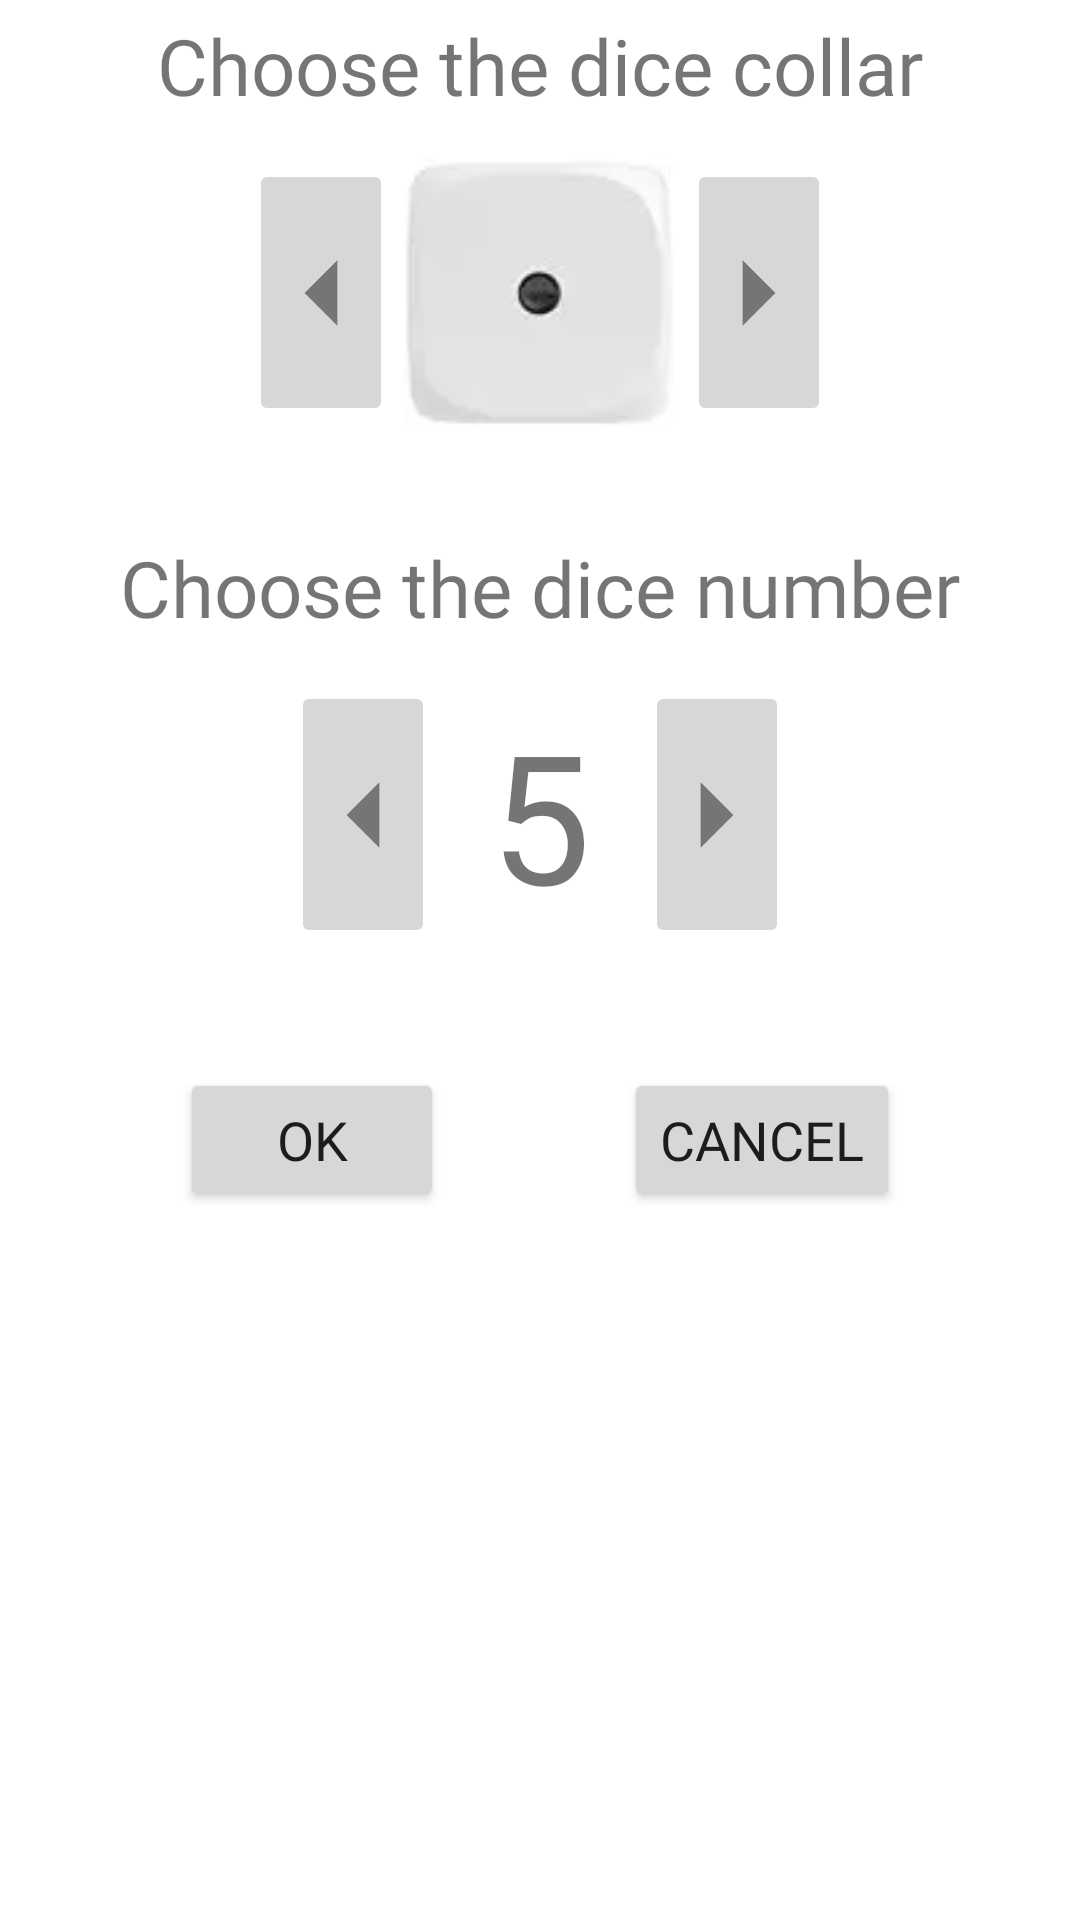

Locate icon controls on the screen. Image size 1080×1920, boxes as [left=x1, top=y1, right=x2, bottom=y2].
arrow left: [left=261, top=177, right=381, bottom=408], [left=303, top=699, right=423, bottom=930]
arrow right: [left=699, top=177, right=819, bottom=408], [left=657, top=699, right=777, bottom=930]
